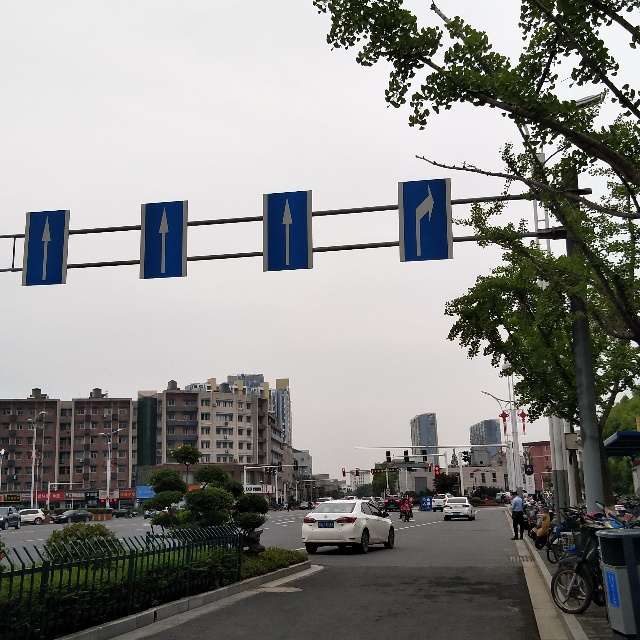right: (404, 182, 449, 260)
straight: (267, 193, 310, 270), (143, 202, 184, 276), (27, 209, 61, 285)
